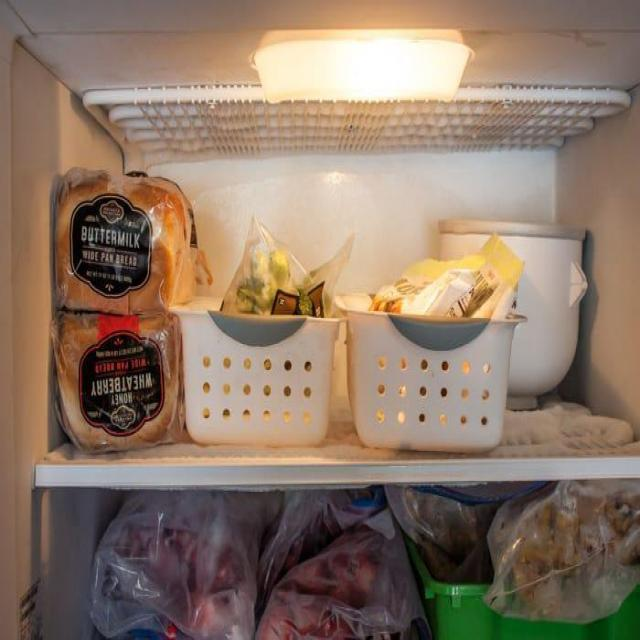bread: (55, 171, 175, 311), (55, 310, 178, 442)
